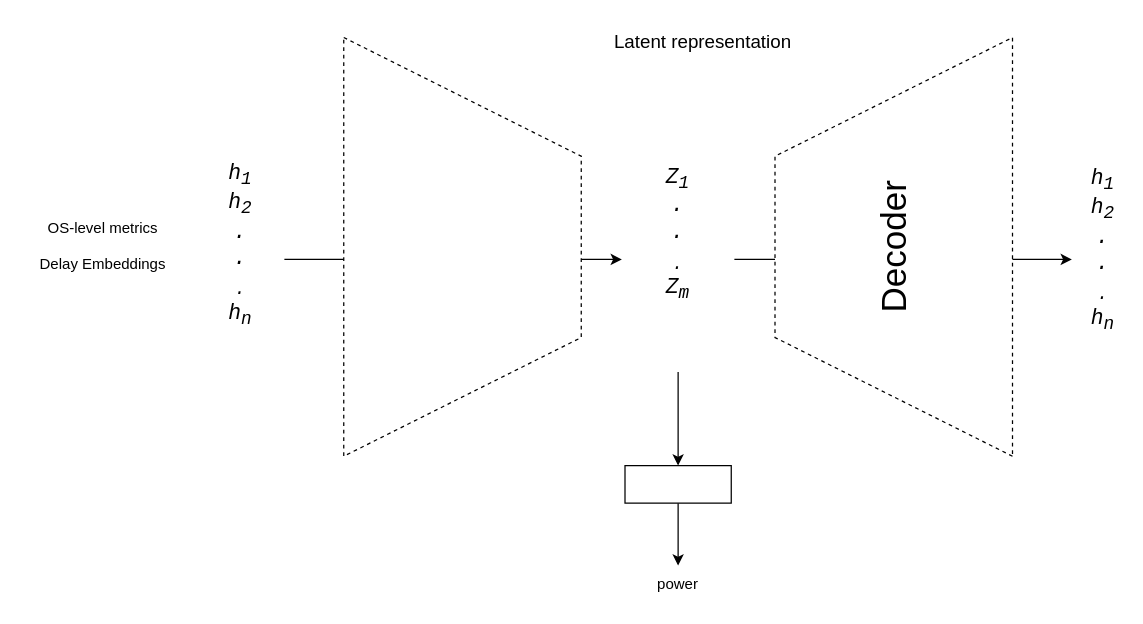
Some shapes in this 1143 by 624 pixel diagram are drawn without their labels. The centre of each missing label's shape, as x and y in pixels:
Encoder: the point at 461,246
Power Head: the point at 677,483
